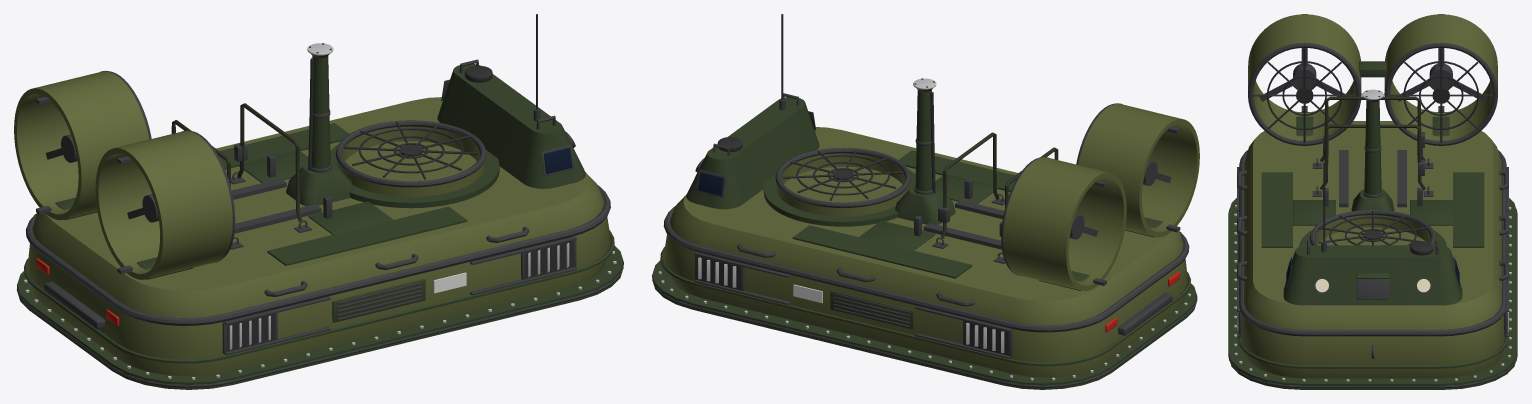
The model's file is hull.glb.
3 views of the same model, side by side, from view 1: azimuth 30°, elevation 25°; view 2: azimuth 150°, elevation 25°; view 3: azimuth 270°, elevation 25° (orthographic). The views are drawn at different scales.
Parts seen in each view (by area): view 1: hull; view 2: hull; view 3: hull.
Boxes of the visible parts, x1,y1,x2,y2 form: hull: (14,14,623,389); hull: (652,14,1199,389); hull: (1228,14,1517,389).
Bounding box in the file's own units: 2.48 × 1.2 × 1.48.
